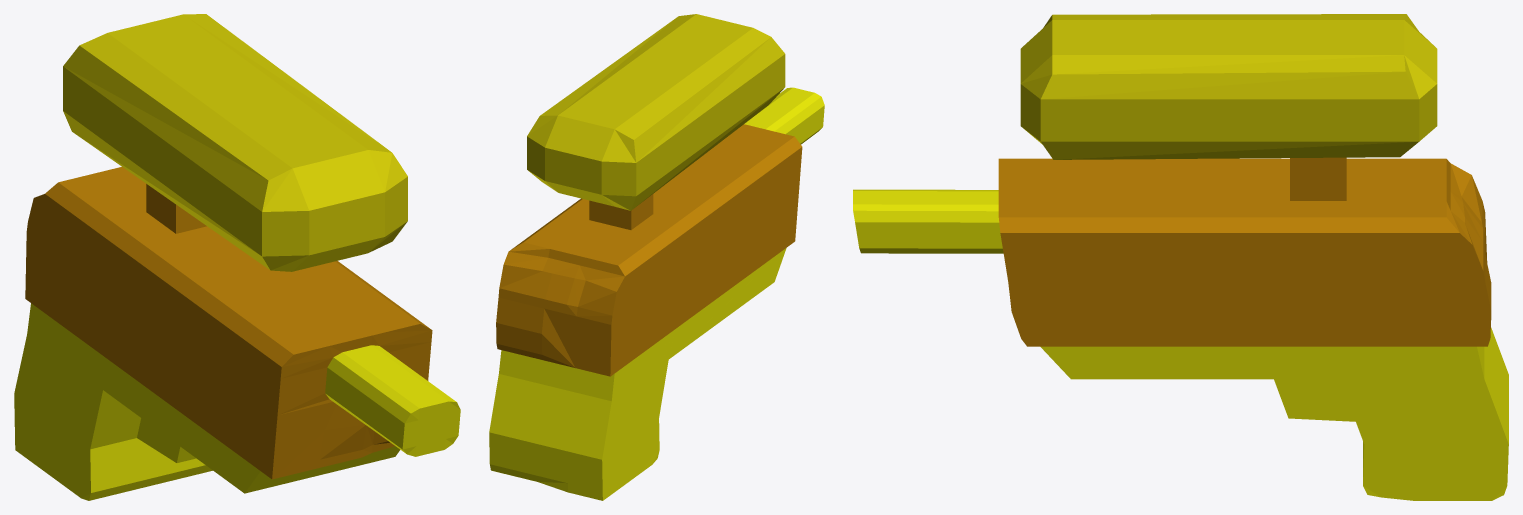
File: watergun.fbx
The picture shows the model from 3 angles, left to right: view 1: azimuth 30°, elevation 25°; view 2: azimuth 150°, elevation 25°; view 3: azimuth 270°, elevation 25°; orthographic projection. The views are drawn at different scales.
Parts seen in each view (by area): view 1: pCube1; view 2: pCube1; view 3: pCube1.
Boxes of the visible parts, x1,y1,x2,y2 form: pCube1: (14,14,460,500); pCube1: (489,14,824,500); pCube1: (853,14,1508,500).
Size of the model in its own units: 0.3462 by 0.9879 by 1.37.
